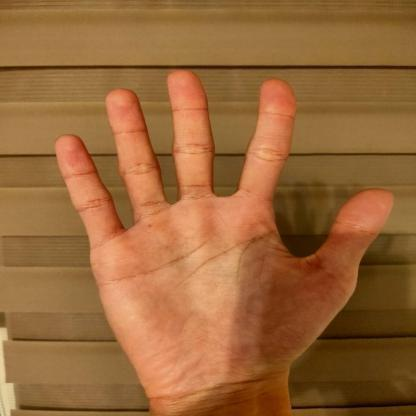bare_hand: (33, 57, 404, 416)
